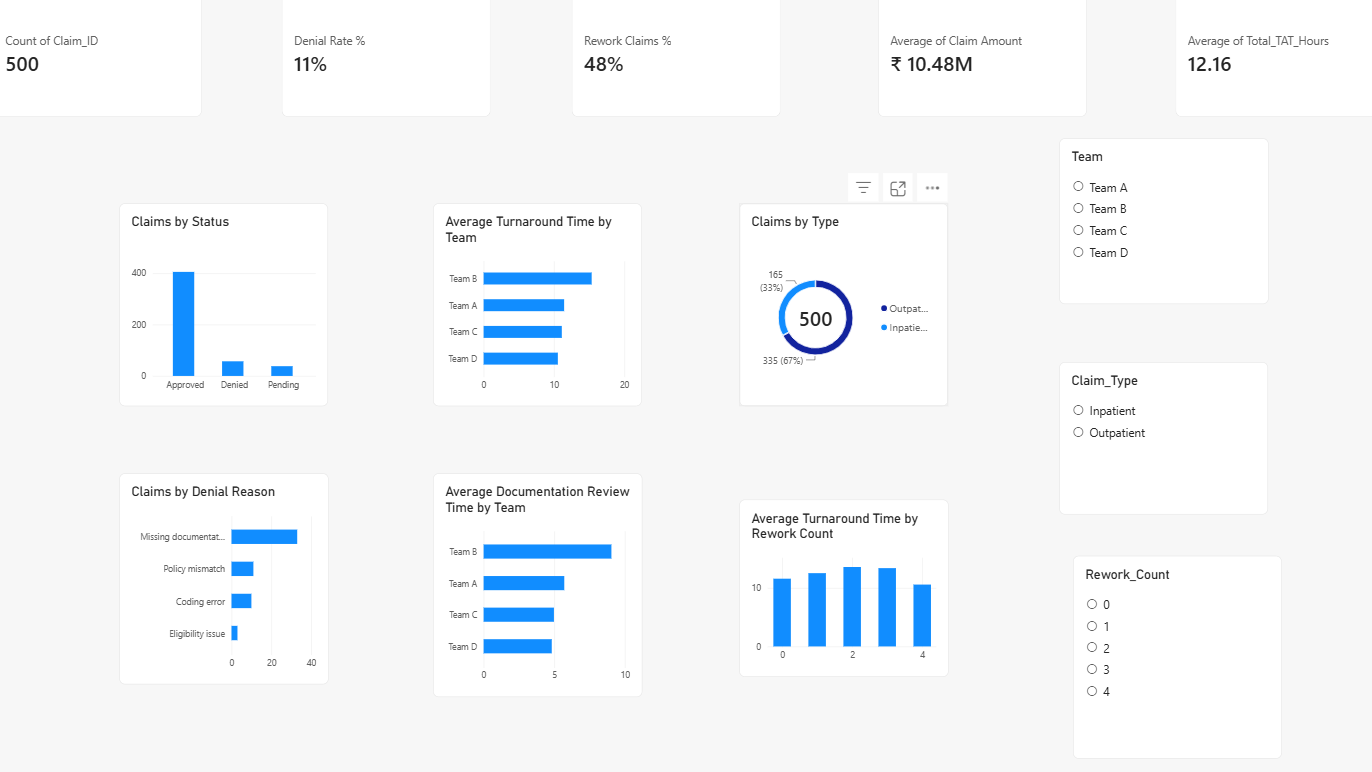

The page's visual inventory and layout, read from the dashboard file:
{"tool":"powerbi","page":{"name":"Page 1","canvas":[1920,1080],"ordinal":0},"visuals":[{"type":"cardVisual","fields":{"Data":["Count(ClaimsData.Claim_ID)"]},"box":[0,0,288,172],"z":1},{"type":"cardVisual","fields":{"Data":["Avg(ClaimsData.Total_TAT_Hours)"]},"box":[1631.1,0,288,172],"z":2},{"type":"clusteredColumnChart","title":"Claims by Status","fields":{"Category":["ClaimsData.Final_Status"],"Y":["CountNonNull(ClaimsData.Claim_ID)"]},"box":[173.3,291.1,288,280],"z":3},{"type":"clusteredBarChart","title":"Average Turnaround Time by Team","fields":{"Category":["ClaimsData.Team"],"Y":["Avg(ClaimsData.Total_TAT_Hours)"]},"box":[606.7,291.1,288,280],"z":4},{"type":"clusteredColumnChart","title":"Average Turnaround Time by Rework Count","fields":{"Category":["ClaimsData.Rework_Count"],"Y":["Avg(ClaimsData.Total_TAT_Hours)"]},"box":[1028.9,700,288.9,244.4],"z":5},{"type":"clusteredBarChart","title":"Claims by Denial Reason","fields":{"Category":["ClaimsData.Denial_Reason"],"Y":["CountNonNull(ClaimsData.Claim_ID)"]},"box":[173.3,664.4,288.9,291.1],"z":6},{"type":"clusteredBarChart","title":"Average Documentation Review Time by Team","fields":{"Category":["ClaimsData.Team"],"Y":["Avg(ClaimsData.Documentation_Hours)"]},"box":[606.7,664.4,288.9,308.9],"z":7},{"type":"listSlicer","fields":{"Values":["ClaimsData.Claim_Type"]},"box":[1471.1,511.1,288,210],"z":8},{"type":"listSlicer","fields":{"Values":["ClaimsData.Team"]},"box":[1471.1,202.2,288.9,228.9],"z":9},{"type":"listSlicer","fields":{"Values":["ClaimsData.Rework_Count"]},"box":[1488.9,777.8,288,280],"z":10},{"type":"cardVisual","fields":{"Data":["ClaimsData.Denial Rate %"]},"box":[397.8,0,288,172],"z":11},{"type":"cardVisual","fields":{"Data":["ClaimsData.Rework Claims %"]},"box":[797.8,0,288,172],"z":12},{"type":"cardVisual","fields":{"Data":["Sum(ClaimsData.Claim_Amount)"]},"box":[1220,0,288,172],"z":13},{"type":"donutChart","title":"Claims by Type","fields":{"Category":["ClaimsData.Claim_Type"],"Y":["CountNonNull(ClaimsData.Claim_ID)"]},"box":[1028.9,291.1,288,280],"z":14}]}

Visuals, with their boxes in screenshot pixels (x1, y1, x2, y2), scaled from the page's 1920x1080 canvas onto the 1372x772 screenshot:
cardVisual - Count(ClaimsData.Claim_ID): rect(0, 0, 206, 123)
cardVisual - Avg(ClaimsData.Total_TAT_Hours): rect(1166, 0, 1371, 123)
"Claims by Status" clusteredColumnChart: rect(124, 208, 330, 408)
"Average Turnaround Time by Team" clusteredBarChart: rect(434, 208, 639, 408)
"Average Turnaround Time by Rework Count" clusteredColumnChart: rect(735, 500, 942, 675)
"Claims by Denial Reason" clusteredBarChart: rect(124, 475, 330, 683)
"Average Documentation Review Time by Team" clusteredBarChart: rect(434, 475, 640, 696)
listSlicer - ClaimsData.Claim_Type: rect(1051, 365, 1257, 515)
listSlicer - ClaimsData.Team: rect(1051, 145, 1258, 308)
listSlicer - ClaimsData.Rework_Count: rect(1064, 556, 1270, 756)
cardVisual - ClaimsData.Denial Rate %: rect(284, 0, 490, 123)
cardVisual - ClaimsData.Rework Claims %: rect(570, 0, 776, 123)
cardVisual - Sum(ClaimsData.Claim_Amount): rect(872, 0, 1078, 123)
"Claims by Type" donutChart: rect(735, 208, 941, 408)
